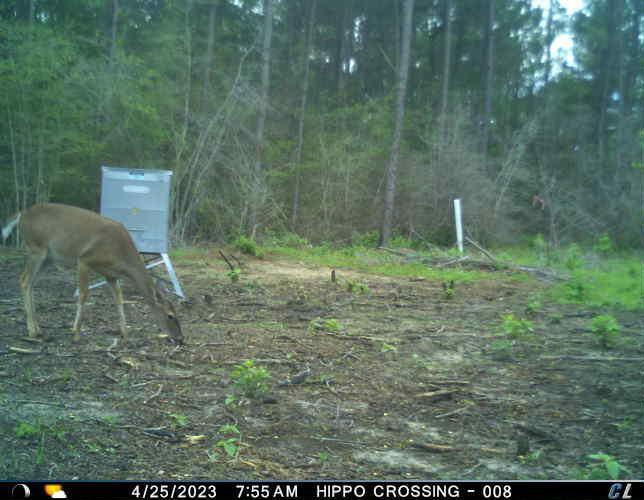Deer: (0, 197, 189, 349)
